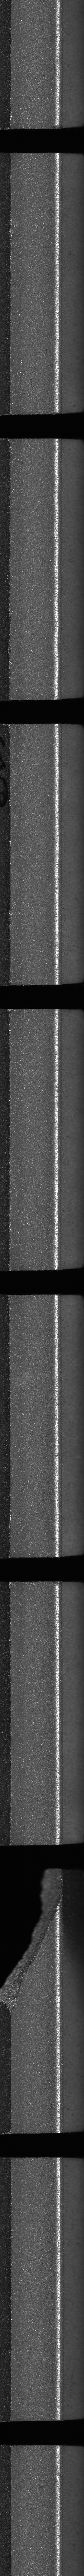Chip: (0, 1863, 68, 2026)
